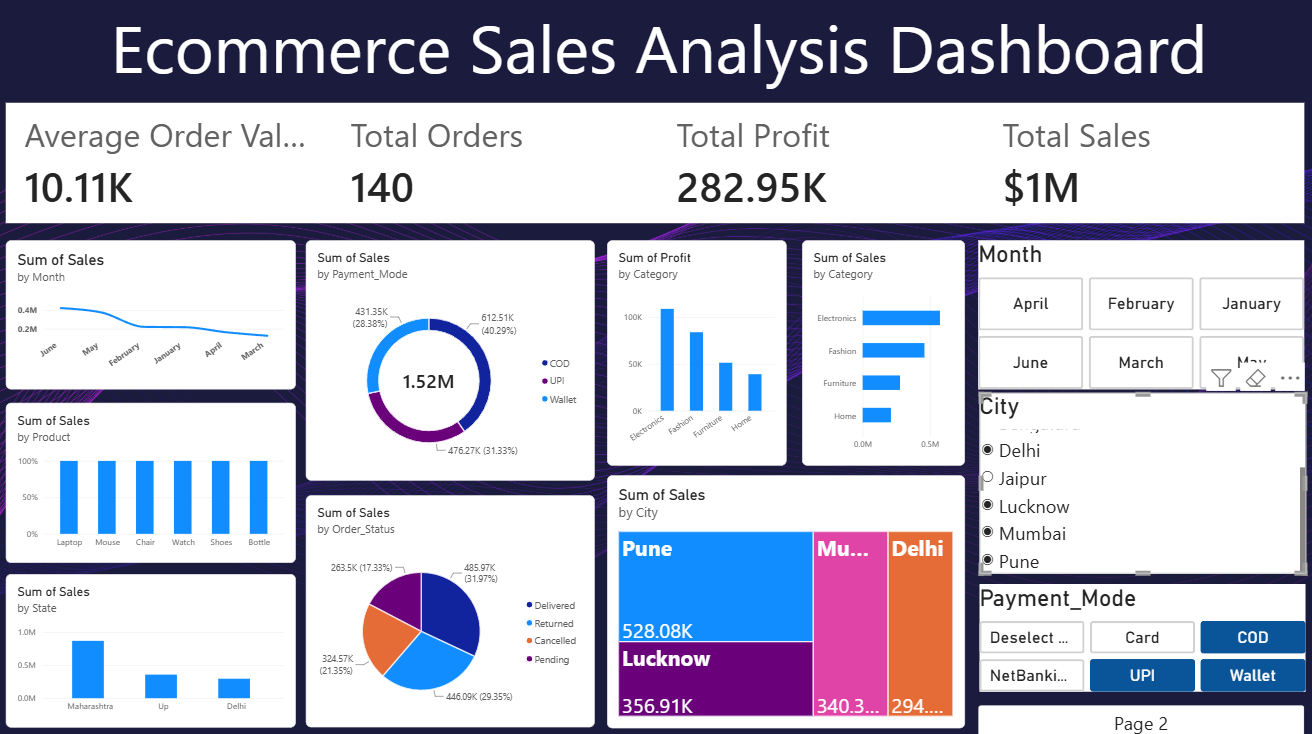

What the dashboard file says about the page in this screenshot:
{"tool":"powerbi","page":{"name":"Page 1","canvas":[1920,1080],"ordinal":0},"visuals":[{"type":"cardVisual","fields":{"Data":["DAX Measure.Average Order Value","DAX Measure.Total Orders","DAX Measure.Total Profit","DAX Measure.Total Sales","DAX Measure.Average Order Value"]},"box":[20,158,1880,174],"z":0},{"type":"textbox","box":[10,10,1910,147.5],"z":1000},{"type":"lineChart","fields":{"Category":["public orders.Month"],"Y":["Sum(public orders.Sales)"]},"box":[20,356,420,216],"z":2000},{"type":"barChart","fields":{"Category":["public orders.Category"],"Y":["Sum(public orders.Sales)"]},"box":[1172,356,236,326],"z":3000},{"type":"hundredPercentStackedColumnChart","fields":{"Category":["public orders.Product"],"Y":["Sum(public orders.Sales)"]},"box":[20,592,420,232],"z":4000},{"type":"treemap","fields":{"Group":["public orders.City"],"Values":["Sum(public orders.Sales)"]},"box":[890,696,518,366],"z":5000},{"type":"donutChart","fields":{"Category":["public orders.Payment_Mode"],"Y":["Sum(public orders.Sales)"]},"box":[454,356,418,348],"z":6000},{"type":"pieChart","fields":{"Category":["public orders.Order_Status"],"Y":["Sum(public orders.Sales)"]},"box":[454,726,418,336],"z":7000},{"type":"columnChart","fields":{"Category":["public orders.State"],"Y":["Sum(public orders.Sales)"]},"box":[20,840,420,222],"z":8000},{"type":"columnChart","fields":{"Category":["public orders.Category"],"Y":["Sum(public orders.Profit)"]},"box":[890,356,260,326],"z":9000},{"type":"advancedSlicerVisual","fields":{"Values":["public orders.Month"]},"box":[1428,356,472,216],"z":10000},{"type":"listSlicer","fields":{"Values":["public orders.City"]},"box":[1429.6,577.3,472,262],"z":11000},{"type":"advancedSlicerVisual","fields":{"Values":["public orders.Payment_Mode"]},"box":[1429.6,854.2,472.3,155.6],"z":12000},{"type":"pageNavigator","box":[1427.8,1029.7,472.3,50.7],"z":13000}]}

Visuals, with their boxes in screenshot pixels (x1, y1, x2, y2), scaled from the page's 1920x1080 canvas onto the 1312x734 screenshot:
cardVisual - DAX Measure.Average Order Value x DAX Measure.Total Orders: <bbox>14, 107, 1298, 226</bbox>
textbox: <bbox>7, 7, 1311, 107</bbox>
lineChart - public orders.Month x Sum(public orders.Sales): <bbox>14, 242, 301, 389</bbox>
barChart - public orders.Category x Sum(public orders.Sales): <bbox>801, 242, 962, 464</bbox>
hundredPercentStackedColumnChart - public orders.Product x Sum(public orders.Sales): <bbox>14, 402, 301, 560</bbox>
treemap - public orders.City x Sum(public orders.Sales): <bbox>608, 473, 962, 722</bbox>
donutChart - public orders.Payment_Mode x Sum(public orders.Sales): <bbox>310, 242, 596, 478</bbox>
pieChart - public orders.Order_Status x Sum(public orders.Sales): <bbox>310, 493, 596, 722</bbox>
columnChart - public orders.State x Sum(public orders.Sales): <bbox>14, 571, 301, 722</bbox>
columnChart - public orders.Category x Sum(public orders.Profit): <bbox>608, 242, 786, 464</bbox>
advancedSlicerVisual - public orders.Month: <bbox>976, 242, 1298, 389</bbox>
listSlicer - public orders.City: <bbox>977, 392, 1299, 570</bbox>
advancedSlicerVisual - public orders.Payment_Mode: <bbox>977, 581, 1300, 686</bbox>
pageNavigator: <bbox>976, 700, 1298, 733</bbox>
